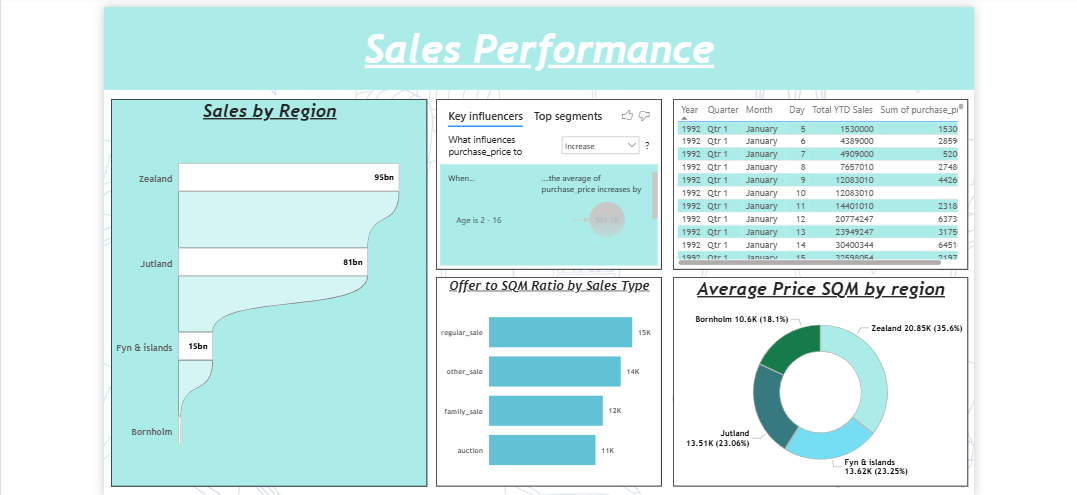

This screenshot's page, from the dashboard's own definition file:
{"tool":"powerbi","page":{"name":"Sales Performance","canvas":[1280,720],"ordinal":1},"visuals":[{"type":"shape","box":[0,0,1279.8,121.9],"z":0},{"type":"barChart","title":"Sales by Region","fields":{"Y":["Measures Table.Sales by Region"],"Category":["Housing.region"]},"box":[9.9,134.6,464.9,569.8],"z":1000},{"type":"tableEx","fields":{"Values":["Housing.date.Variation.Date Hierarchy.Year","Housing.date.Variation.Date Hierarchy.Quarter","Housing.date.Variation.Date Hierarchy.Month","Housing.date.Variation.Date Hierarchy.Day","Measures Table.Total YTD Sales","Sum(Housing.purchase_price)"]},"box":[836.2,134.6,433.7,250.9],"z":2000},{"type":"donutChart","fields":{"Y":["Measures Table.Average Price SQM"],"Category":["Housing.region"]},"box":[836.2,396.9,433.7,307.6],"z":3000},{"type":"keyDriversVisual","fields":{"Target":["Housing.purchase_price"],"ExplainBy":["Housing.Age"]},"box":[487.6,134.6,331.7,250.9],"z":4000},{"type":"barChart","title":"Offer to SQM Ratio by Sales Type","fields":{"Y":["Measures Table.Offer to SQM Ratio"],"Category":["Housing.sales_type"]},"box":[487.6,396.9,331.7,307.6],"z":5000}]}

Visuals, with their boxes in screenshot pixels (x1, y1, x2, y2):
shape: bbox(104, 6, 969, 88)
"Sales by Region" barChart: bbox(110, 97, 425, 482)
tableEx - Housing.date.Variation.Date Hierarchy.Year x Housing.date.Variation.Date Hierarchy.Quarter: bbox(669, 97, 962, 266)
donutChart - Measures Table.Average Price SQM x Housing.region: bbox(669, 274, 962, 482)
keyDriversVisual - Housing.purchase_price x Housing.Age: bbox(433, 97, 658, 266)
"Offer to SQM Ratio by Sales Type" barChart: bbox(433, 274, 658, 482)
